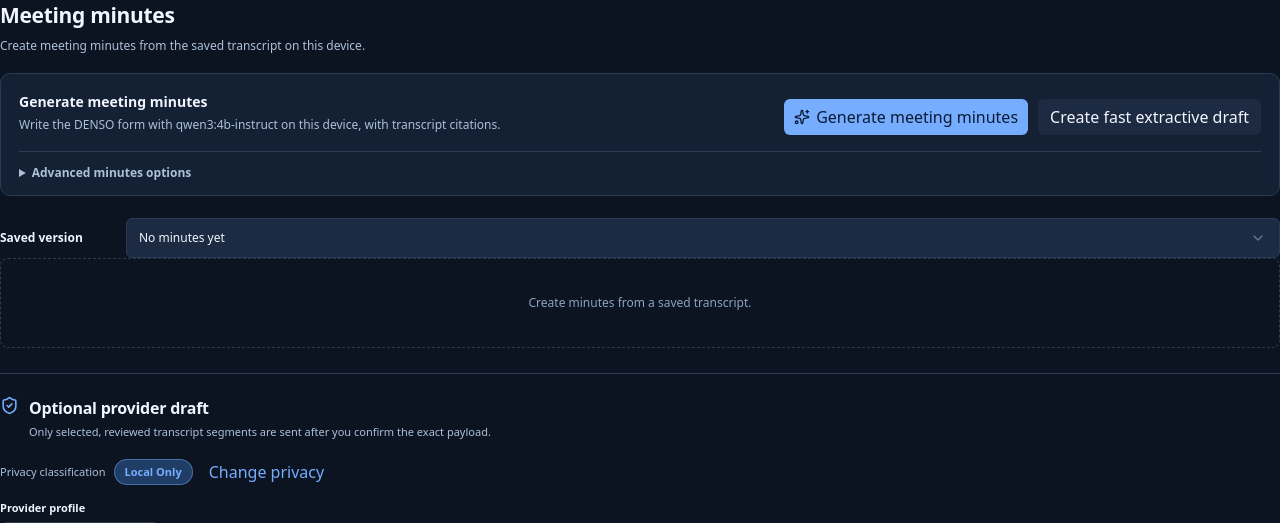
Test: keeps local AI errors visible without silently falling back
Expected: the button "Create fast extractive draft" is shown, [1038, 99, 1261, 135]
Click the button "Generate meeting minutes".
click(906, 117)  # box [784, 99, 1028, 135]
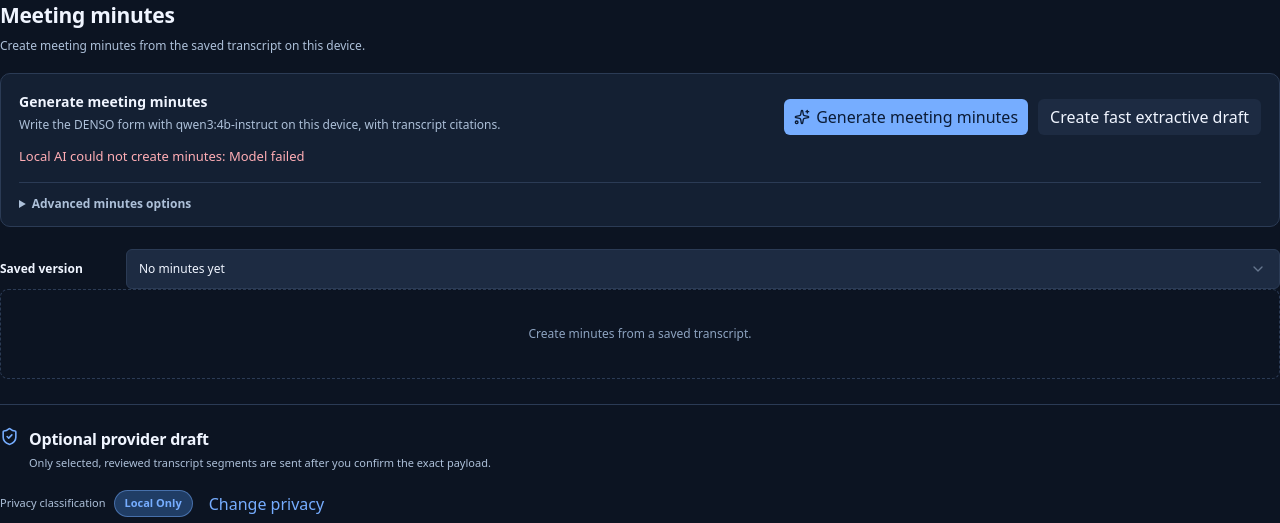
Expected: the message shows "Model failed", [19, 147, 304, 165]
Click the button "Create fast extractive draft".
click(1150, 117)  # box [1038, 99, 1261, 135]
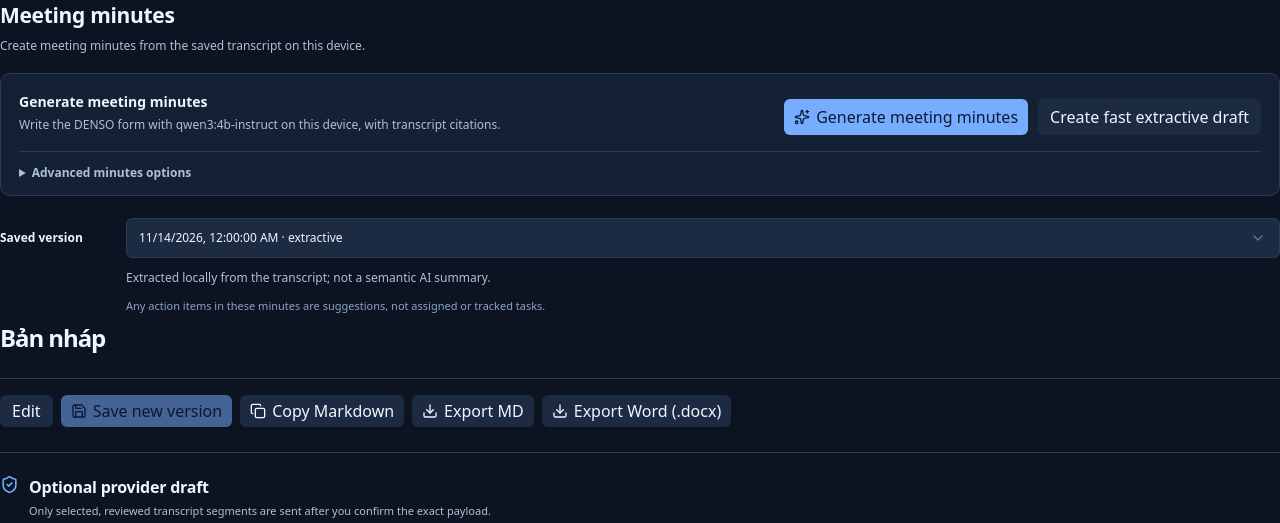
Expected: the text "Extracted locally from the transcript; not a semantic AI summary." is shown, [126, 269, 490, 287]
